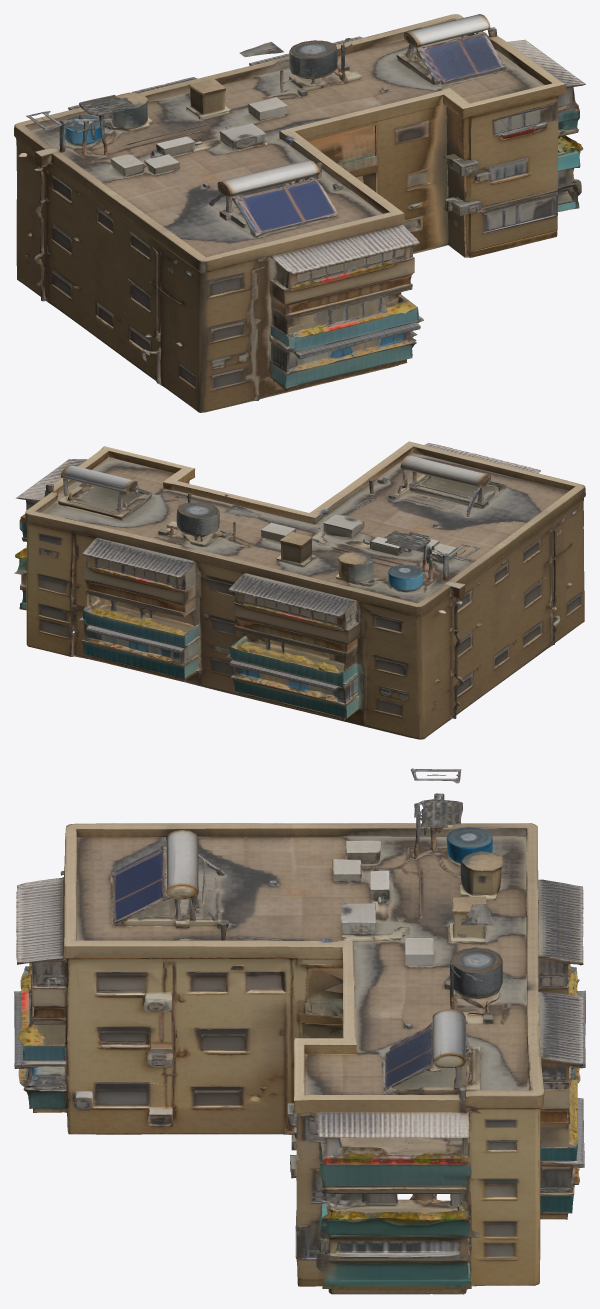
File: r3_shikun_l.glb
3 renders of one model, top to bottom at view 1: azimuth 30°, elevation 25°; view 2: azimuth 150°, elevation 25°; view 3: azimuth 270°, elevation 25°, orthographic. The views are drawn at different scales.
Parts seen in each view (by area): view 1: geometry_0; view 2: geometry_0; view 3: geometry_0.
Boxes of the visible parts, box(x1,y1,x2,y2) form: geometry_0: box(14, 14, 585, 412); geometry_0: box(14, 441, 585, 739); geometry_0: box(14, 768, 585, 1294).
Size of the model in its own units: 28 by 10 by 22.
Materials: 1 (1 with a texture image).
